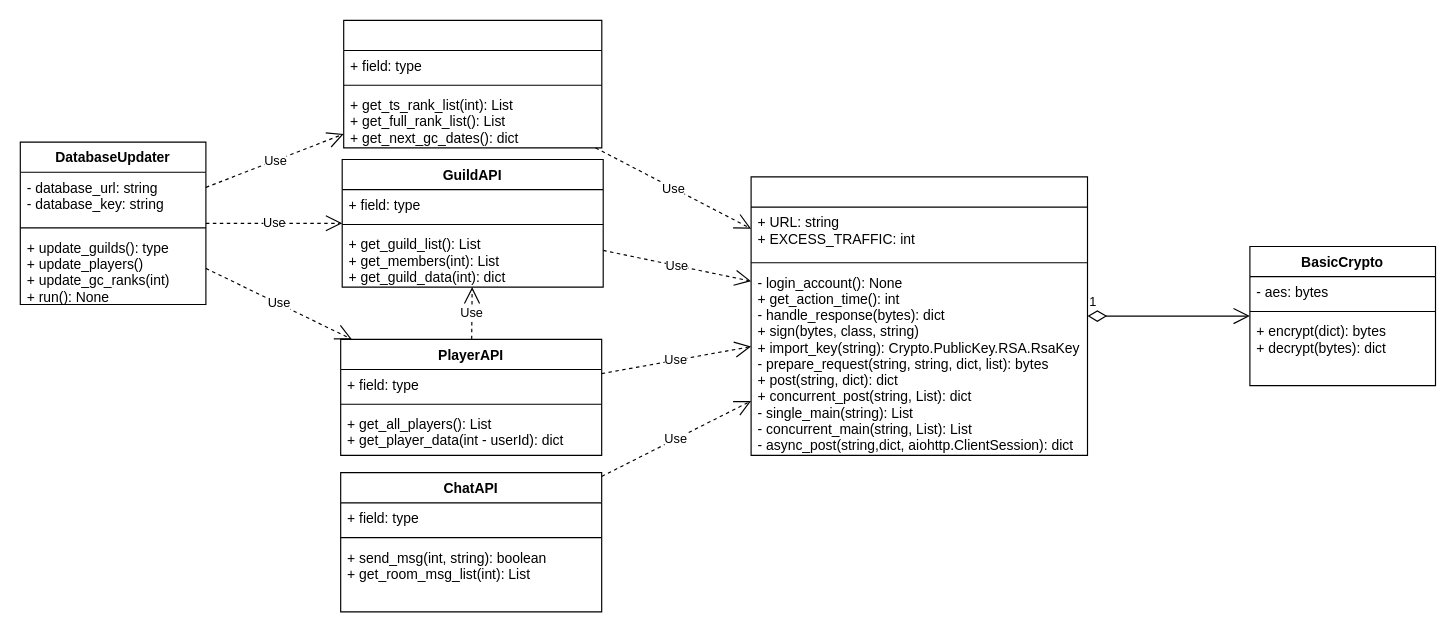
Some shapes in this 1456 by 636 pixel diagram are drawn without their labels. Each missing label, with the box of its shape:
BaseAPI: (750, 176, 1088, 455)
GranColoAPI: (343, 19, 602, 148)
